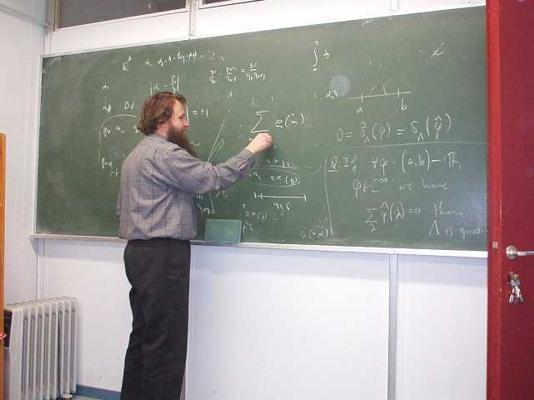person: (119, 91, 272, 398)
